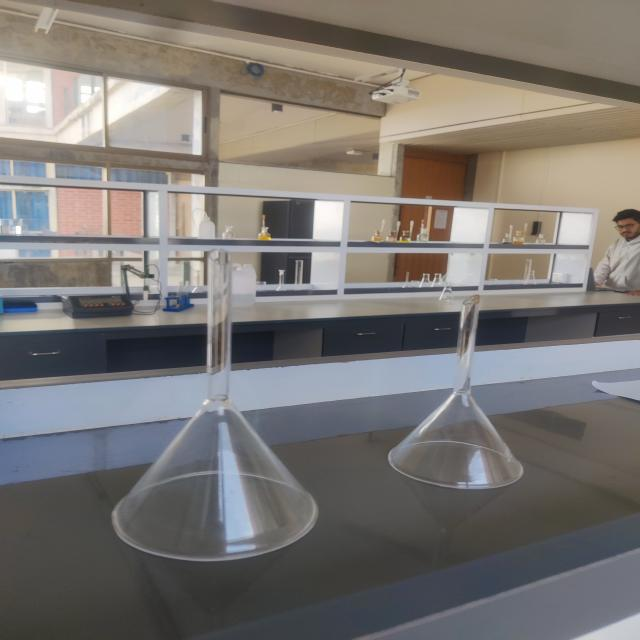Funnel: (103, 225, 350, 598), (374, 269, 548, 510)
